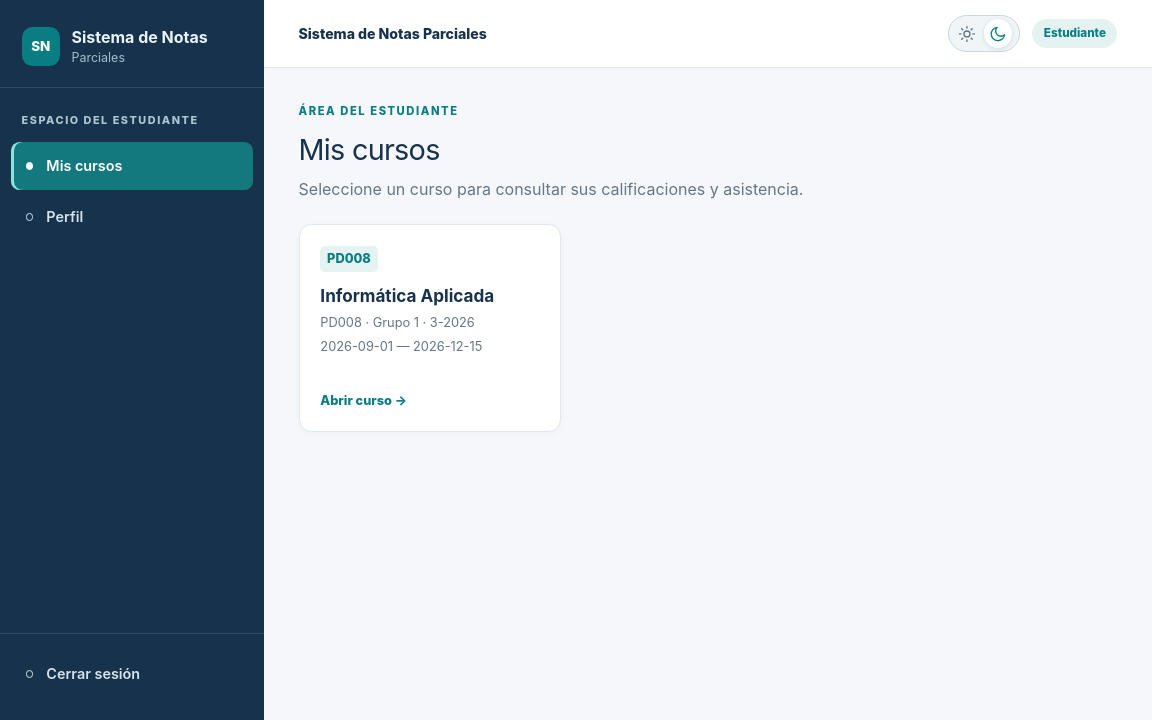
Scenario: las tarjetas rotulan la actividad y muestran observaciones solo cuando hay texto
Click the button "Informática Aplicada" at (430,328), box [298, 224, 561, 432]
(page scrolled)
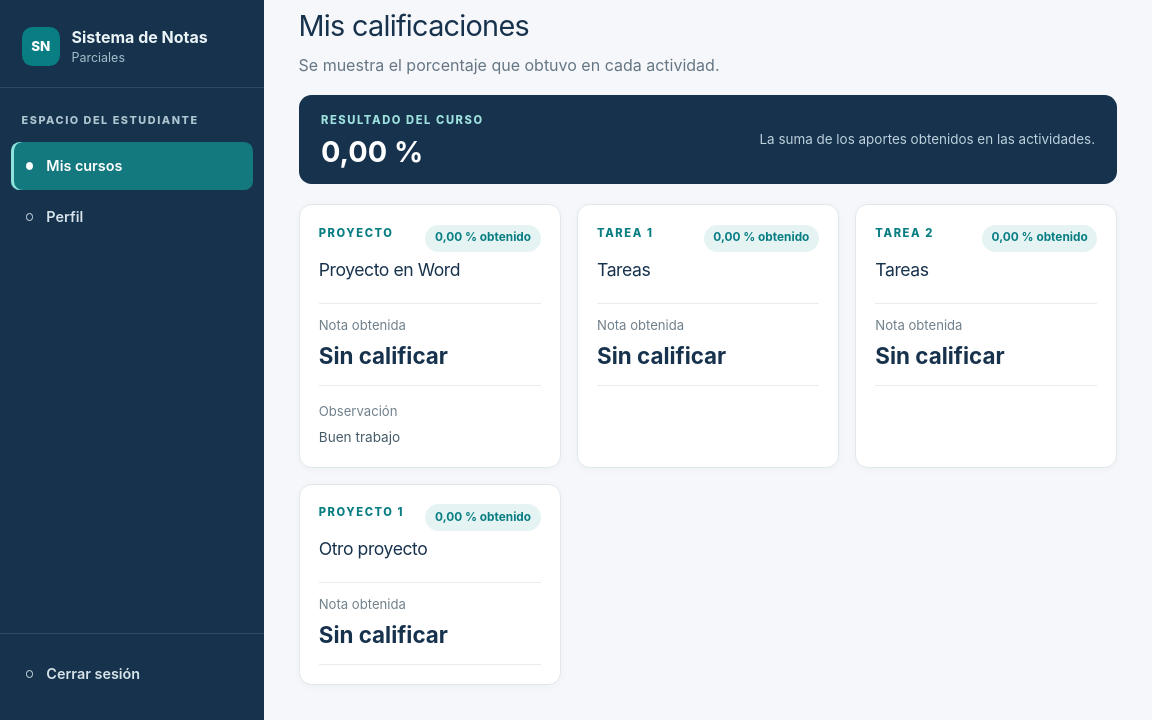
Result: the number of elements with class "grade-card" is 4 at [298, 204, 561, 468]; [577, 204, 839, 468]; [855, 204, 1117, 468]; [298, 484, 561, 685]
Result: the text "proyecto" is shown at [319, 224, 394, 243]
Result: the heading "Proyecto en Word" is shown at [319, 259, 460, 280]
